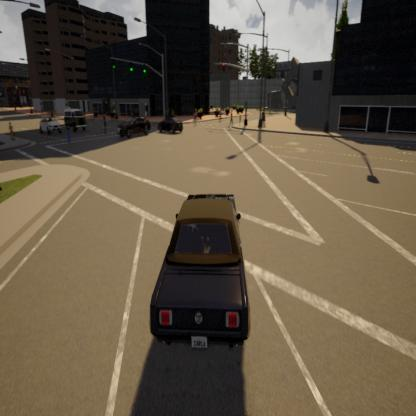Cars: (150, 172, 253, 346), (116, 110, 151, 140), (36, 105, 62, 138), (63, 103, 87, 133), (160, 111, 182, 134)
Pedestrian: (99, 109, 109, 139), (229, 105, 236, 134), (64, 120, 72, 144), (262, 104, 268, 135)
